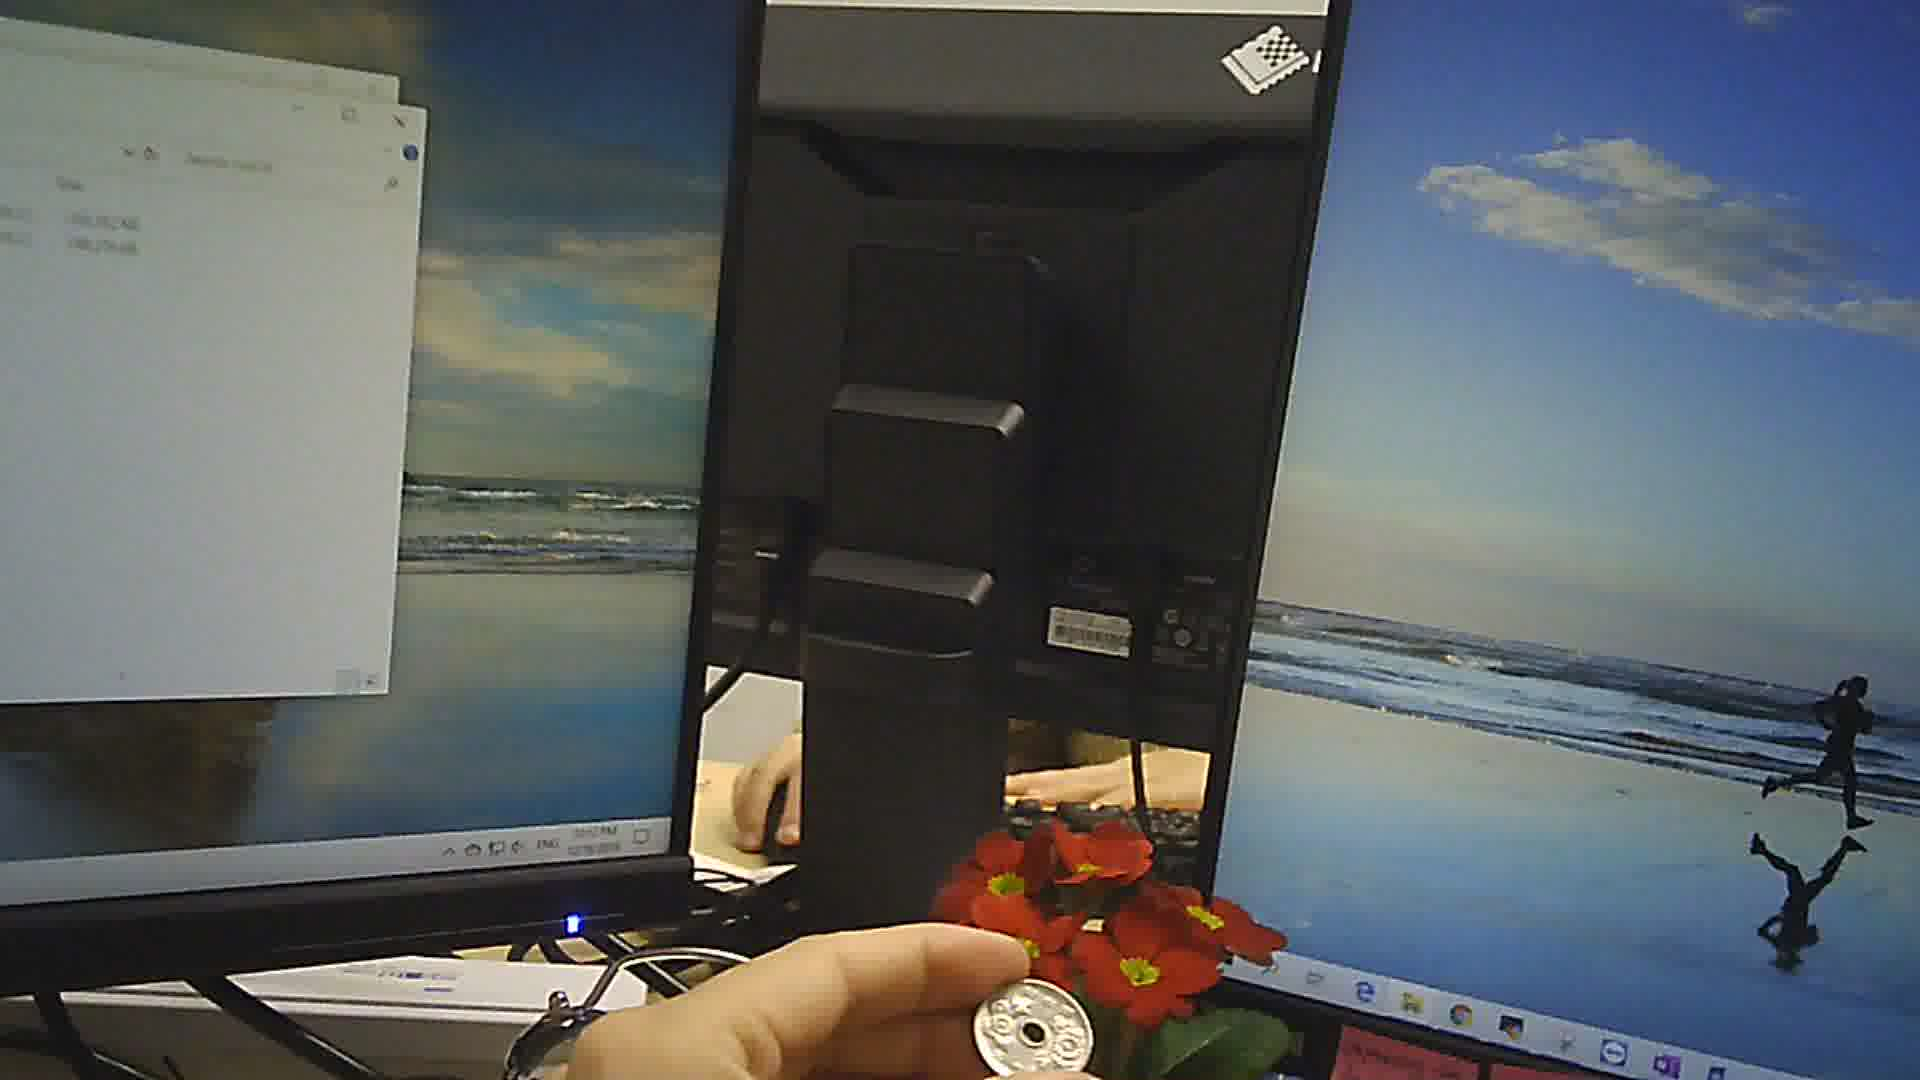50 Yen: (968, 965, 1097, 1079)
